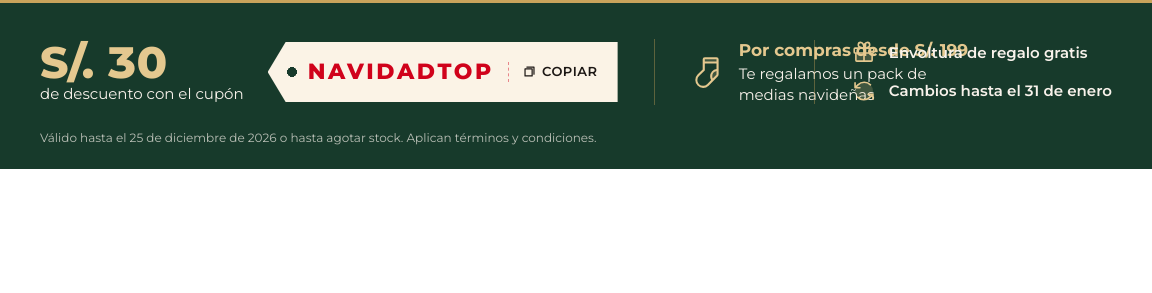
Test: BandaCupon › copia el cupón y lo confirma con un aviso
The width and height of the screenshot is (1152, 293).
What coordinates should you click on to do the following:
click the button with aria-label "NAVIDADTOP, copiar cupón"
I would click on:
 (443, 72)
Its box is x1=268 y1=42 x2=618 y2=102.
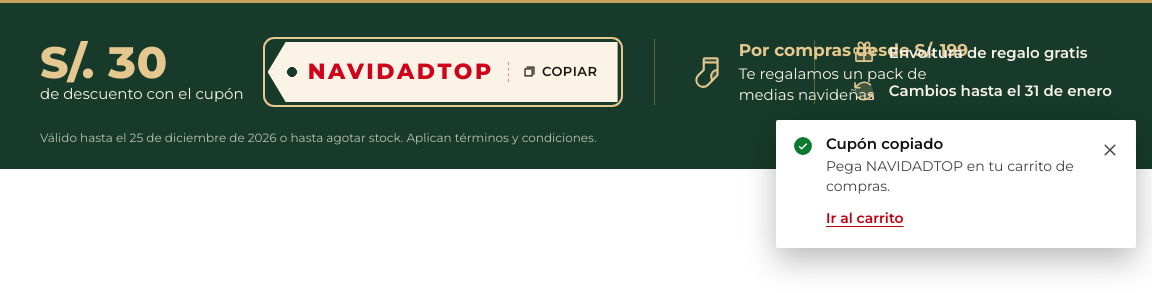
Result: the text "Cupón copiado" is shown at x1=826 y1=134 x2=943 y2=153
